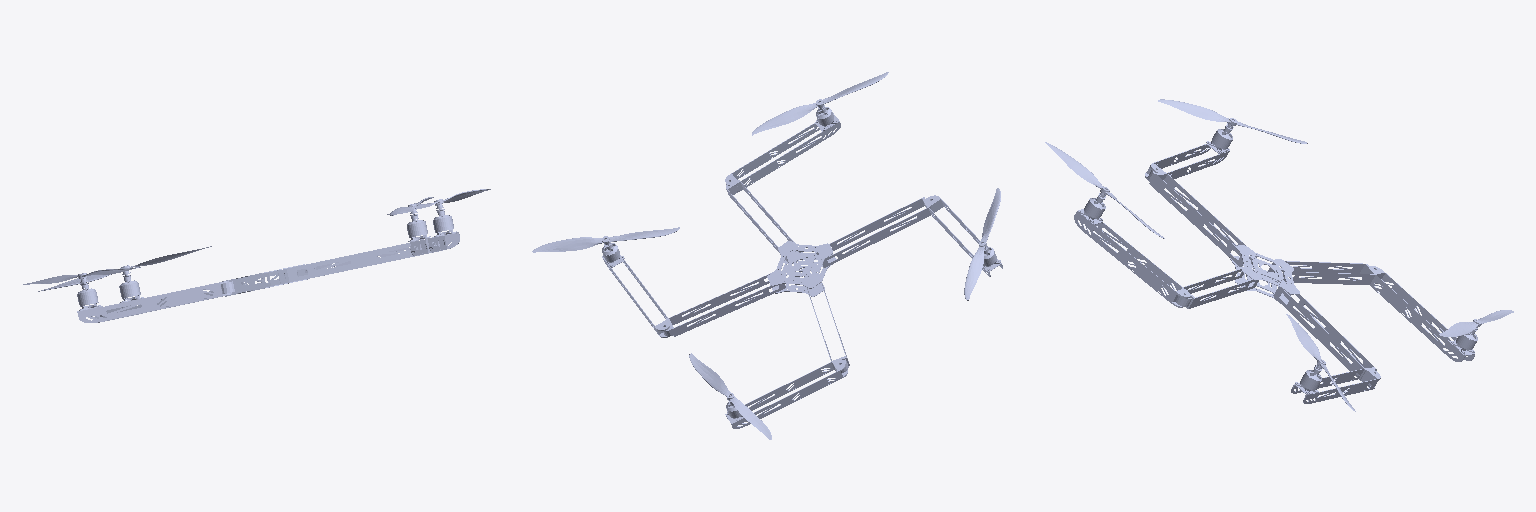
robot.urdf — reconfig_drone:
<?xml version="1.0" encoding="utf-8"?>
<!-- This URDF was automatically created by SolidWorks to URDF Exporter! Originally created by Stephen Brawner (brawner@gmail.com) 
     Commit Version: 1.6.0-4-g7f85cfe  Build Version: 1.6.7995.38578
     For more information, please see http://wiki.ros.org/sw_urdf_exporter -->
<robot
  name="reconfig_drone">
  <link
    name="base_link">
    <inertial>
      <origin
        xyz="0.00663059164527123 -0.000443757005428345 -0.0124544770406071"
        rpy="0 0 0" />
      <mass
        value="0.0642799463011298" />
      <inertia
        ixx="0.00012788855583822"
        ixy="-4.68637135877541E-07"
        ixz="4.57510840882536E-06"
        iyy="0.000159671803517222"
        iyz="5.10141783682572E-05"
        izz="0.000230735800886499" />
    </inertial>
    <visual>
      <origin
        xyz="0 0 0"
        rpy="0 0 0" />
      <geometry>
        <mesh
          filename="package://drone_description/meshes/base_link.STL" scale="1 1 1"/>
      </geometry>
      <material
        name="">
        <color
          rgba="0.792156862745098 0.819607843137255 0.933333333333333 1" />
      </material>
    </visual>
    <collision>
      <origin
        xyz="0 0 0"
        rpy="0 0 0" />
      <geometry>
        <mesh
          filename="package://drone_description/meshes/base_link.STL" scale="1 1 1"/>
      </geometry>
    </collision>
  </link>
  <link
    name="hinge_2">
    <inertial>
      <origin
        xyz="-0.0766063786190889 -0.094771134274111 0.0685711402719996"
        rpy="0 0 0" />
      <mass
        value="0.0249388596475328" />
      <inertia
        ixx="3.59319455483028E-05"
        ixy="-1.91914140378135E-05"
        ixz="1.06246008065473E-05"
        iyy="2.54915186109624E-05"
        iyz="1.44155345988235E-05"
        izz="4.37390281143096E-05" />
    </inertial>
    <visual>
      <origin
        xyz="0 0 0"
        rpy="0 0 0" />
      <geometry>
        <mesh
          filename="package://drone_description/meshes/hinge_2.STL" scale="1 1 1"/>
      </geometry>
      <material
        name="">
        <color
          rgba="0.792156862745098 0.819607843137255 0.933333333333333 1" />
      </material>
    </visual>
    <collision>
      <origin
        xyz="0 0 0"
        rpy="0 0 0" />
      <geometry>
        <mesh
          filename="package://drone_description/meshes/hinge_2.STL" scale="1 1 1"/>
      </geometry>
    </collision>
  </link>
  <joint
    name="hinge2"
    type="revolute">
    <origin
      xyz="0.20659 -0.12801 0.047422"
      rpy="0 0 0" />
    <parent
      link="base_link" />
    <child
      link="hinge_2" />
    <axis
      xyz="0.029675 0.46215 0.8863" />
    <limit
      lower="0"
      upper="3.14"
      effort="0"
      velocity="0" />
  </joint>
  <link
    name="rotor_2">
    <inertial>
      <origin
        xyz="2.95302722197431E-05 -0.00104988649027271 -0.00221068957657655"
        rpy="0 0 0" />
      <mass
        value="0.00644399418639987" />
      <inertia
        ixx="1.31004011071418E-05"
        ixy="-1.10833956703584E-05"
        ixz="5.10398838896428E-06"
        iyy="1.38919686482832E-05"
        iyz="4.96604553008046E-06"
        izz="2.23828737346972E-05" />
    </inertial>
    <visual>
      <origin
        xyz="0 0 0"
        rpy="0 0 0" />
      <geometry>
        <mesh
          filename="package://drone_description/meshes/rotor_2.STL" scale="1 1 1"/>
      </geometry>
      <material
        name="">
        <color
          rgba="0.792156862745098 0.819607843137255 0.933333333333333 1" />
      </material>
    </visual>
    <collision>
      <origin
        xyz="0 0 0"
        rpy="0 0 0" />
      <geometry>
        <mesh
          filename="package://drone_description/meshes/rotor_2.STL" scale="1 1 1"/>
      </geometry>
    </collision>
  </link>
  <joint
    name="rotor2"
    type="continuous">
    <origin
      xyz="-0.1054 -0.11263 0.13223"
      rpy="0 0 0" />
    <parent
      link="hinge_2" />
    <child
      link="rotor_2" />
    <axis
      xyz="0.012193 -0.42873 -0.90335" />
  </joint>
  <link
    name="hinge_3">
    <inertial>
      <origin
        xyz="0.113610258380443 -0.066362344027266 0.0473668948663512"
        rpy="0 0 0" />
      <mass
        value="0.0249388365673588" />
      <inertia
        ixx="1.90147662225321E-05"
        ixy="2.03230402965866E-05"
        ixz="-9.63662301497786E-06"
        iyy="3.76828477523843E-05"
        iyz="6.70207175297561E-06"
        izz="4.84635991577892E-05" />
    </inertial>
    <visual>
      <origin
        xyz="0 0 0"
        rpy="0 0 0" />
      <geometry>
        <mesh
          filename="package://drone_description/meshes/hinge_3.STL" scale="1 1 1"/>
      </geometry>
      <material
        name="">
        <color
          rgba="0.792156862745098 0.819607843137255 0.933333333333333 1" />
      </material>
    </visual>
    <collision>
      <origin
        xyz="0 0 0"
        rpy="0 0 0" />
      <geometry>
        <mesh
          filename="package://drone_description/meshes/hinge_3.STL" scale="1 1 1"/>
      </geometry>
    </collision>
  </link>
  <joint
    name="hinge3"
    type="revolute">
    <origin
      xyz="0.17071 0.15423 -0.098545"
      rpy="0 0 0" />
    <parent
      link="base_link" />
    <child
      link="hinge_3" />
    <axis
      xyz="0.029675 0.46215 0.8863" />
    <limit
      lower="0"
      upper="3.14"
      effort="0"
      velocity="0" />
  </joint>
  <link
    name="rotor_3">
    <inertial>
      <origin
        xyz="8.13825168199389E-05 -0.00129914720324242 -0.00207264038480029"
        rpy="0 0 0" />
      <mass
        value="0.00644409720484778" />
      <inertia
        ixx="4.08491744444744E-06"
        ixy="-7.96930848421415E-06"
        ixz="4.19491440578657E-06"
        iyy="2.15059314683348E-05"
        iyz="1.67411996487092E-06"
        izz="2.37847612955688E-05" />
    </inertial>
    <visual>
      <origin
        xyz="0 0 0"
        rpy="0 0 0" />
      <geometry>
        <mesh
          filename="package://drone_description/meshes/rotor_3.STL" scale="1 1 1"/>
      </geometry>
      <material
        name="">
        <color
          rgba="0.792156862745098 0.819607843137255 0.933333333333333 1" />
      </material>
    </visual>
    <collision>
      <origin
        xyz="0 0 0"
        rpy="0 0 0" />
      <geometry>
        <mesh
          filename="package://drone_description/meshes/rotor_3.STL" scale="1 1 1"/>
      </geometry>
    </collision>
  </link>
  <joint
    name="rotor3"
    type="continuous">
    <origin
      xyz="0.15888 -0.073194 0.10176"
      rpy="0 0 0" />
    <parent
      link="hinge_3" />
    <child
      link="rotor_3" />
    <axis
      xyz="0.033001 -0.53096 -0.84675" />
  </joint>
  <link
    name="hinge_4">
    <inertial>
      <origin
        xyz="0.0901564491128639 0.0995402990210753 -0.0382897502240692"
        rpy="0 0 0" />
      <mass
        value="0.0249388577313197" />
      <inertia
        ixx="3.06673596311067E-05"
        ixy="-2.05495324352358E-05"
        ixz="1.13108372908801E-05"
        iyy="2.94730657485614E-05"
        iyz="1.21542975427686E-05"
        izz="4.50219305192509E-05" />
    </inertial>
    <visual>
      <origin
        xyz="0 0 0"
        rpy="0 0 0" />
      <geometry>
        <mesh
          filename="package://drone_description/meshes/hinge_4.STL" scale="1 1 1"/>
      </geometry>
      <material
        name="">
        <color
          rgba="0.792156862745098 0.819607843137255 0.933333333333333 1" />
      </material>
    </visual>
    <collision>
      <origin
        xyz="0 0 0"
        rpy="0 0 0" />
      <geometry>
        <mesh
          filename="package://drone_description/meshes/hinge_4.STL" scale="1 1 1"/>
      </geometry>
    </collision>
  </link>
  <joint
    name="hinge4"
    type="revolute">
    <origin
      xyz="-0.17075 0.15568 -0.08787"
      rpy="0 0 0" />
    <parent
      link="base_link" />
    <child
      link="hinge_4" />
    <axis
      xyz="0.029675 0.46215 0.8863" />
    <limit
      lower="0"
      upper="3.14"
      effort="0"
      velocity="0" />
  </joint>
  <link
    name="rotor_4">
    <inertial>
      <origin
        xyz="0.000196496779613586 -0.00196720680955065 -0.00410081089551315"
        rpy="0 0 0" />
      <mass
        value="0.00644401971333641" />
      <inertia
        ixx="5.06387913916726E-06"
        ixy="8.44244623094866E-06"
        ixz="-5.00612893520301E-06"
        iyy="2.09404920750107E-05"
        iyz="2.20120077872242E-06"
        izz="2.33706566053972E-05" />
    </inertial>
    <visual>
      <origin
        xyz="0 0 0"
        rpy="0 0 0" />
      <geometry>
        <mesh
          filename="package://drone_description/meshes/rotor_4.STL" scale="1 1 1"/>
      </geometry>
      <material
        name="">
        <color
          rgba="0.792156862745098 0.819607843137255 0.933333333333333 1" />
      </material>
    </visual>
    <collision>
      <origin
        xyz="0 0 0"
        rpy="0 0 0" />
      <geometry>
        <mesh
          filename="package://drone_description/meshes/rotor_4.STL" scale="1 1 1"/>
      </geometry>
    </collision>
  </link>
  <joint
    name="rotor4"
    type="continuous">
    <origin
      xyz="0.12598 0.15631 -0.017708"
      rpy="0 0 0" />
    <parent
      link="hinge_4" />
    <child
      link="rotor_4" />
    <axis
      xyz="0.043803 -0.43233 -0.90065" />
  </joint>
  <link
    name="hinge_5">
    <inertial>
      <origin
        xyz="-0.118831768401381 0.0719079746162121 -0.0165342292727982"
        rpy="0 0 0" />
      <mass
        value="0.0249388764323699" />
      <inertia
        ixx="1.55406167141378E-05"
        ixy="1.91255898594345E-05"
        ixz="-8.62317923218837E-06"
        iyy="4.03320758722714E-05"
        iyz="5.1988626534092E-06"
        izz="4.92892172046226E-05" />
    </inertial>
    <visual>
      <origin
        xyz="0 0 0"
        rpy="0 0 0" />
      <geometry>
        <mesh
          filename="package://drone_description/meshes/hinge_5.STL" scale="1 1 1"/>
      </geometry>
      <material
        name="">
        <color
          rgba="0.792156862745098 0.819607843137255 0.933333333333333 1" />
      </material>
    </visual>
    <collision>
      <origin
        xyz="0 0 0"
        rpy="0 0 0" />
      <geometry>
        <mesh
          filename="package://drone_description/meshes/hinge_5.STL" scale="1 1 1"/>
      </geometry>
    </collision>
  </link>
  <joint
    name="hinge5"
    type="revolute">
    <origin
      xyz="-0.15914 -0.16974 0.081425"
      rpy="0 0 0" />
    <parent
      link="base_link" />
    <child
      link="hinge_5" />
    <axis
      xyz="0.029675 0.46215 0.8863" />
    <limit
      lower="0"
      upper="3.14"
      effort="0"
      velocity="0" />
  </joint>
  <link
    name="rotor_5">
    <inertial>
      <origin
        xyz="-0.000121922998873647 -0.00104811368962757 -0.00220831965886863"
        rpy="0 0 0" />
      <mass
        value="0.0064439567153823" />
      <inertia
        ixx="2.34292299042507E-05"
        ixy="4.69848820370818E-06"
        ixz="-2.16288282930354E-06"
        iyy="5.38282041368822E-06"
        iyz="8.90084202745099E-06"
        izz="2.05629514876919E-05" />
    </inertial>
    <visual>
      <origin
        xyz="0 0 0"
        rpy="0 0 0" />
      <geometry>
        <mesh
          filename="package://drone_description/meshes/rotor_5.STL" scale="1 1 1"/>
      </geometry>
      <material
        name="">
        <color
          rgba="0.792156862745098 0.819607843137255 0.933333333333333 1" />
      </material>
    </visual>
    <collision>
      <origin
        xyz="0 0 0"
        rpy="0 0 0" />
      <geometry>
        <mesh
          filename="package://drone_description/meshes/rotor_5.STL" scale="1 1 1"/>
      </geometry>
    </collision>
  </link>
  <joint
    name="rotor5"
    type="continuous">
    <origin
      xyz="-0.16391 0.11867 0.013142"
      rpy="0 0 0" />
    <parent
      link="hinge_5" />
    <child
      link="rotor_5" />
    <axis
      xyz="-0.049666 -0.42844 -0.9022" />
  </joint>
  
  <!-- Add ros2_control -->
  <ros2_control name="DroneSystem" type="system">
  <hardware>
    <plugin>ros_gz_sim/SimSystem</plugin>
  </hardware>

  <!-- Hinges -->
  <joint name="hinge2">
    <command_interface name="position"/>
    <state_interface name="position"/>
    <state_interface name="velocity"/>
  </joint>

  <joint name="hinge3">
    <command_interface name="position"/>
    <state_interface name="position"/>
    <state_interface name="velocity"/>
  </joint>

  <joint name="hinge4">
    <command_interface name="position"/>
    <state_interface name="position"/>
    <state_interface name="velocity"/>
  </joint>

  <joint name="hinge5">
    <command_interface name="position"/>
    <state_interface name="position"/>
    <state_interface name="velocity"/>
  </joint>

  <!-- Rotors -->
  <joint name="rotor2">
    <command_interface name="velocity"/>
    <state_interface name="velocity"/>
  </joint>

  <joint name="rotor3">
    <command_interface name="velocity"/>
    <state_interface name="velocity"/>
  </joint>

  <joint name="rotor4">
    <command_interface name="velocity"/>
    <state_interface name="velocity"/>
  </joint>

  <joint name="rotor5">
    <command_interface name="velocity"/>
    <state_interface name="velocity"/>
  </joint>

</ros2_control>
  
  
  
</robot>

--- Facts derived from the render (not from the file) ---
The picture shows the robot from 3 angles, left to right: view 1: azimuth 30°, elevation 25°; view 2: azimuth 150°, elevation 25°; view 3: azimuth 270°, elevation 25°; orthographic projection.
Model reconfig_drone with 9 links and 8 joints (4 revolute, 4 continuous), rooted at base_link, posed every joint at zero.
Visible links, largest first — view 1: base_link, hinge_5, hinge_2, hinge_3, rotor_4; view 2: base_link, hinge_2, hinge_4, rotor_3, rotor_2, rotor_4, rotor_5, hinge_3, hinge_5; view 3: base_link, hinge_2, hinge_4, hinge_3, hinge_5, rotor_5, rotor_2, rotor_3, rotor_4.
Link boxes in pixels (<box>): base_link: <box>100,241,434,320</box>; hinge_5: <box>77,278,232,322</box>; hinge_2: <box>407,209,446,255</box>; hinge_3: <box>320,204,459,275</box>; rotor_4: <box>38,246,211,291</box>; base_link: <box>663,180,931,372</box>; hinge_2: <box>725,102,840,191</box>; hinge_4: <box>725,359,847,428</box>; rotor_3: <box>532,227,679,252</box>; rotor_2: <box>752,72,888,135</box>; rotor_4: <box>689,353,771,439</box>; rotor_5: <box>964,188,1000,300</box>; hinge_3: <box>602,239,670,337</box>; hinge_5: <box>927,195,1002,276</box>; base_link: <box>1147,170,1376,379</box>; hinge_2: <box>1074,193,1189,307</box>; hinge_4: <box>1370,266,1478,361</box>; hinge_3: <box>1291,365,1380,403</box>; hinge_5: <box>1145,120,1233,181</box>; rotor_5: <box>1158,99,1307,143</box>; rotor_2: <box>1045,142,1164,238</box>; rotor_3: <box>1286,314,1355,411</box>; rotor_4: <box>1439,310,1513,336</box>.
Bounding box of the posed robot: 0.8041 × 0.7 × 0.3909 m (x, y, z).
Meshes: 9 distinct files referenced, 9 mesh visuals loaded (9 binary STL).
